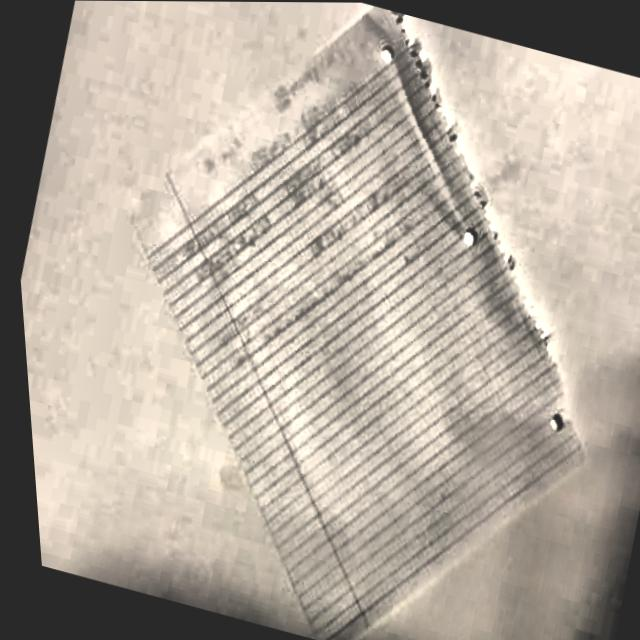Paper: (17, 0, 640, 640)
